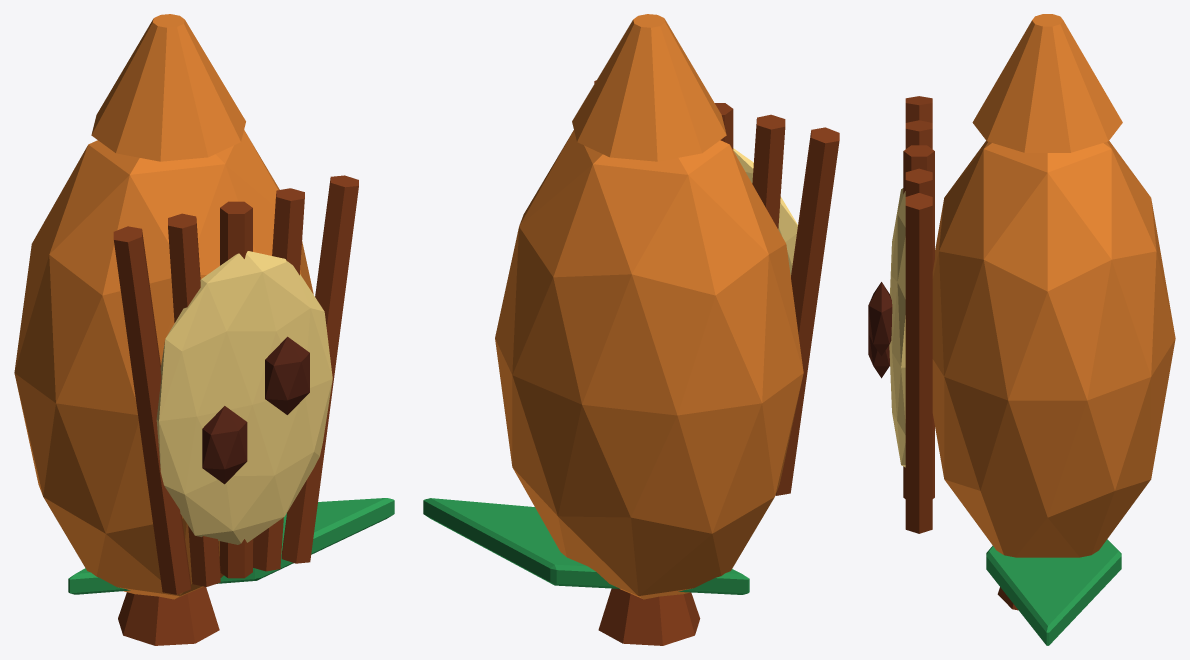
File: cocoa.glb
The picture shows the model from 3 angles, left to right: view 1: azimuth 30°, elevation 25°; view 2: azimuth 150°, elevation 25°; view 3: azimuth 270°, elevation 25°; orthographic projection. The views are drawn at different scales.
Visible parts, largest first — view 1: cocoa-ribbed-pod-body, cocoa-cut-face, cocoa-pointed-tip, cocoa-long-ridge-0, cocoa-long-ridge-4, cocoa-short-stem, cocoa-green-leaf, cocoa-long-ridge-1, cocoa-long-ridge-3, cocoa-long-ridge-2, cocoa-bean-left, cocoa-bean-right; view 2: cocoa-ribbed-pod-body, cocoa-pointed-tip, cocoa-green-leaf, cocoa-long-ridge-0, cocoa-short-stem, cocoa-long-ridge-1, cocoa-cut-face; view 3: cocoa-ribbed-pod-body, cocoa-pointed-tip, cocoa-long-ridge-4, cocoa-green-leaf, cocoa-cut-face, cocoa-long-ridge-2, cocoa-bean-right, cocoa-long-ridge-1, cocoa-long-ridge-3, cocoa-long-ridge-0, cocoa-bean-left.
Boxes of the visible parts, x1=… form: cocoa-ribbed-pod-body: x1=14, y1=130, x2=313, y2=599; cocoa-cut-face: x1=156, y1=251, x2=332, y2=544; cocoa-pointed-tip: x1=91, y1=14, x2=245, y2=161; cocoa-long-ridge-0: x1=113, y1=226, x2=190, y2=594; cocoa-long-ridge-4: x1=282, y1=175, x2=358, y2=563; cocoa-short-stem: x1=118, y1=586, x2=219, y2=645; cocoa-green-leaf: x1=68, y1=498, x2=394, y2=594; cocoa-long-ridge-1: x1=168, y1=213, x2=220, y2=586; cocoa-long-ridge-3: x1=253, y1=188, x2=304, y2=571; cocoa-long-ridge-2: x1=220, y1=201, x2=252, y2=578; cocoa-bean-left: x1=202, y1=406, x2=247, y2=484; cocoa-bean-right: x1=265, y1=336, x2=309, y2=414; cocoa-ribbed-pod-body: x1=495, y1=130, x2=803, y2=599; cocoa-pointed-tip: x1=572, y1=14, x2=726, y2=161; cocoa-green-leaf: x1=423, y1=498, x2=749, y2=594; cocoa-long-ridge-0: x1=775, y1=127, x2=839, y2=495; cocoa-short-stem: x1=598, y1=588, x2=700, y2=645; cocoa-long-ridge-1: x1=752, y1=114, x2=785, y2=228; cocoa-cut-face: x1=733, y1=148, x2=797, y2=276; cocoa-ribbed-pod-body: x1=932, y1=141, x2=1175, y2=557; cocoa-pointed-tip: x1=972, y1=14, x2=1122, y2=152; cocoa-long-ridge-4: x1=905, y1=193, x2=932, y2=533; cocoa-green-leaf: x1=986, y1=539, x2=1121, y2=645; cocoa-cut-face: x1=889, y1=188, x2=905, y2=467; cocoa-long-ridge-2: x1=903, y1=145, x2=934, y2=498; cocoa-bean-right: x1=868, y1=282, x2=892, y2=356; cocoa-long-ridge-1: x1=905, y1=120, x2=932, y2=148; cocoa-long-ridge-3: x1=905, y1=168, x2=932, y2=196; cocoa-long-ridge-0: x1=905, y1=96, x2=932, y2=122; cocoa-bean-left: x1=868, y1=333, x2=889, y2=378.
Size of the model in its own units: 0.6222 by 1 by 0.4852.
